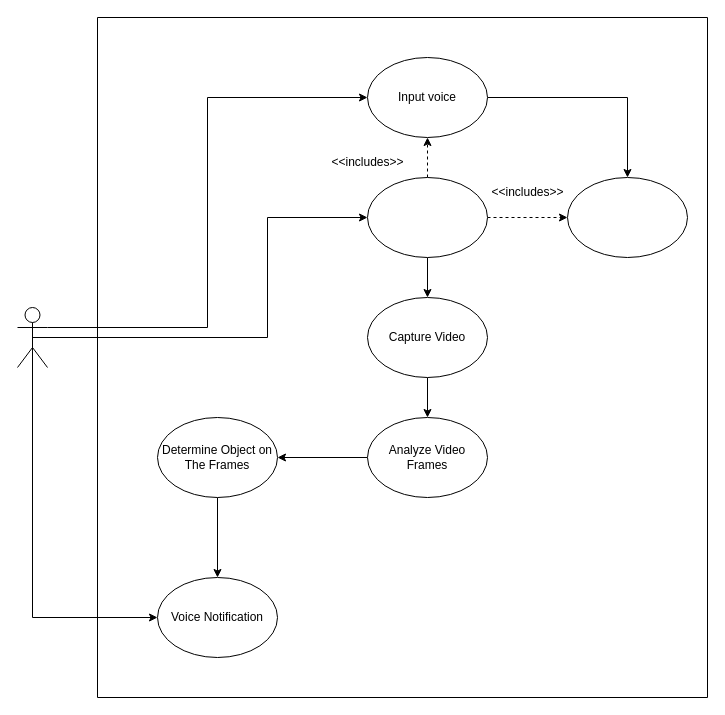
This 725x715 diagram has some shape labels left out. The box of each missing label's shape, as (x1, y1, x2, y2) in pixels:
Actor: (16, 306, 48, 368)
Object Detection: (366, 176, 488, 258)
Set Object Label: (566, 176, 688, 258)
